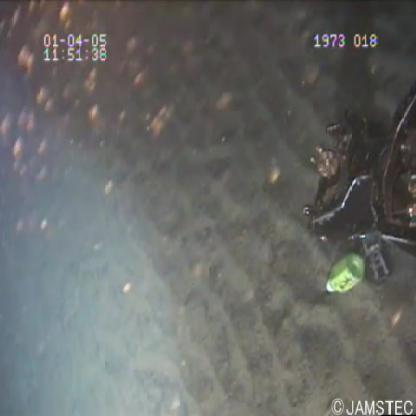Rov: (300, 75, 414, 284)
Rác: (322, 247, 368, 298)
